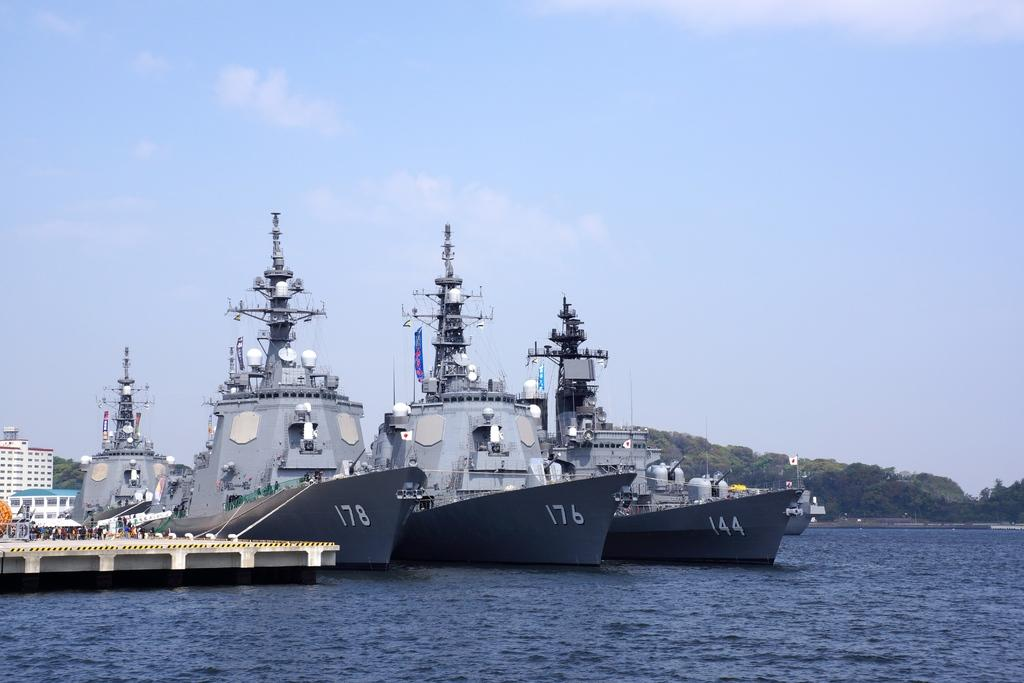Warship: (130, 204, 434, 572), (368, 221, 638, 574), (516, 288, 806, 572), (62, 342, 188, 538)
